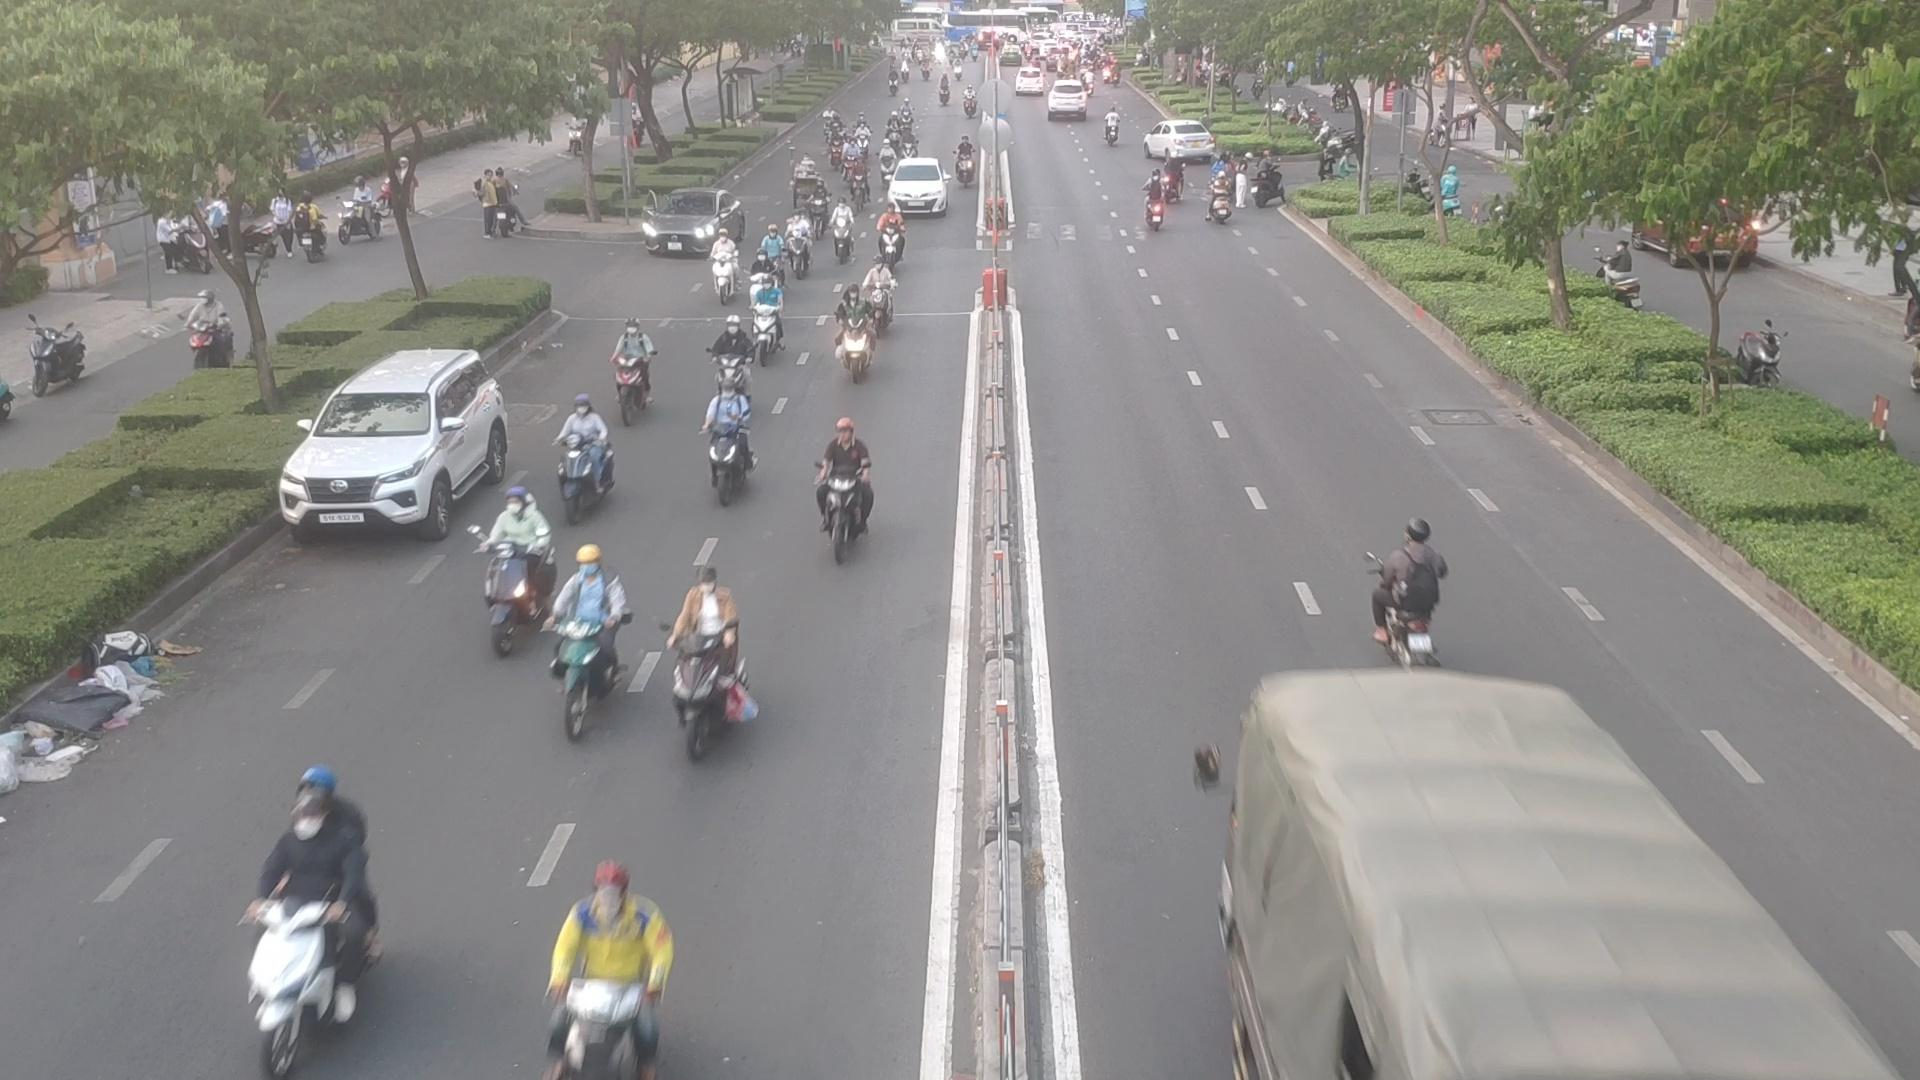car: (277, 345, 516, 539), (636, 189, 741, 258), (887, 164, 949, 218), (1149, 121, 1222, 161)
motorbike: (222, 767, 384, 1068), (543, 862, 683, 1076), (657, 568, 738, 800), (547, 534, 633, 731), (1371, 502, 1436, 684), (471, 495, 553, 634), (808, 411, 876, 550), (558, 404, 624, 520), (828, 274, 880, 382), (699, 381, 746, 491), (607, 324, 653, 413), (756, 273, 789, 364), (860, 261, 895, 338), (711, 229, 738, 310), (802, 177, 840, 232), (869, 208, 903, 266), (785, 211, 814, 276), (833, 199, 857, 262), (955, 133, 975, 195), (1141, 171, 1163, 225), (1160, 153, 1184, 199), (1211, 170, 1228, 225), (765, 223, 782, 269), (849, 162, 868, 204), (841, 137, 858, 182), (876, 141, 894, 182), (858, 124, 876, 160), (902, 127, 920, 158), (827, 123, 840, 160)
